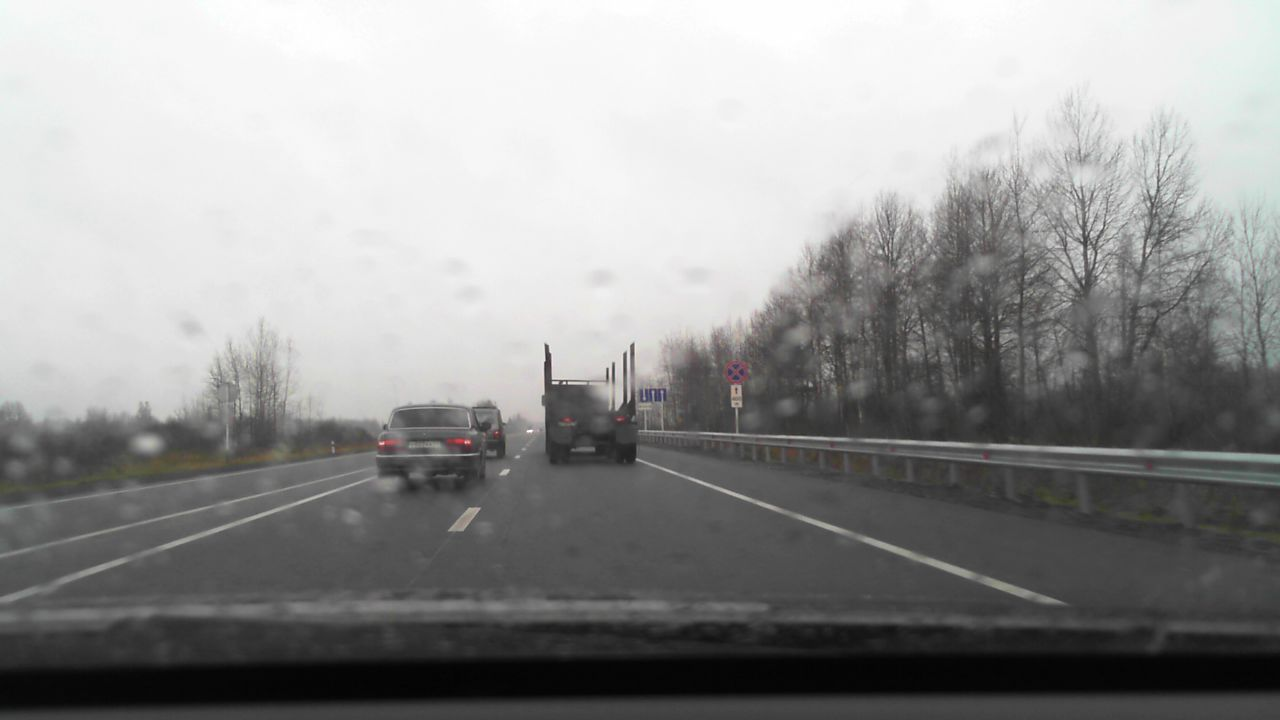No Parking: (723, 359, 748, 384)
